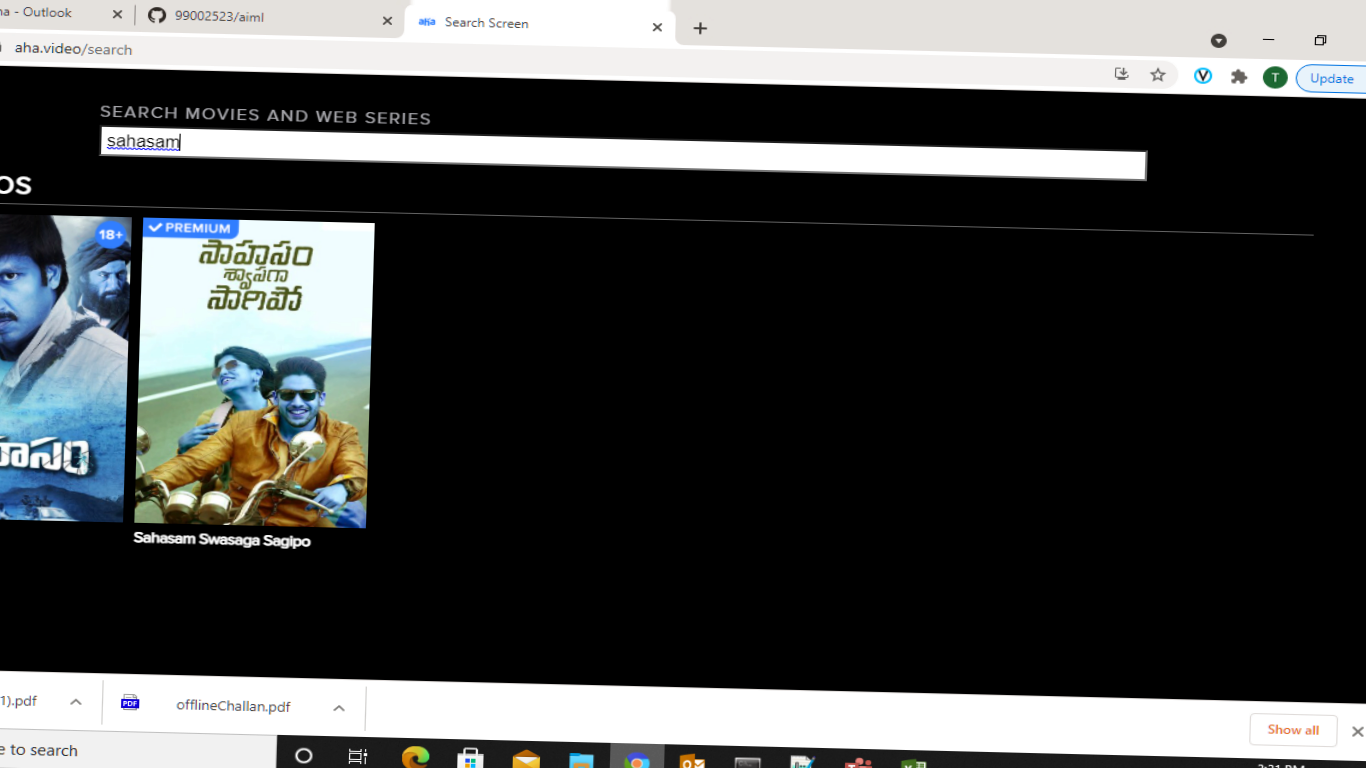resultsfound: (1, 166, 63, 201)
searchtextbox: (96, 96, 1156, 209)
